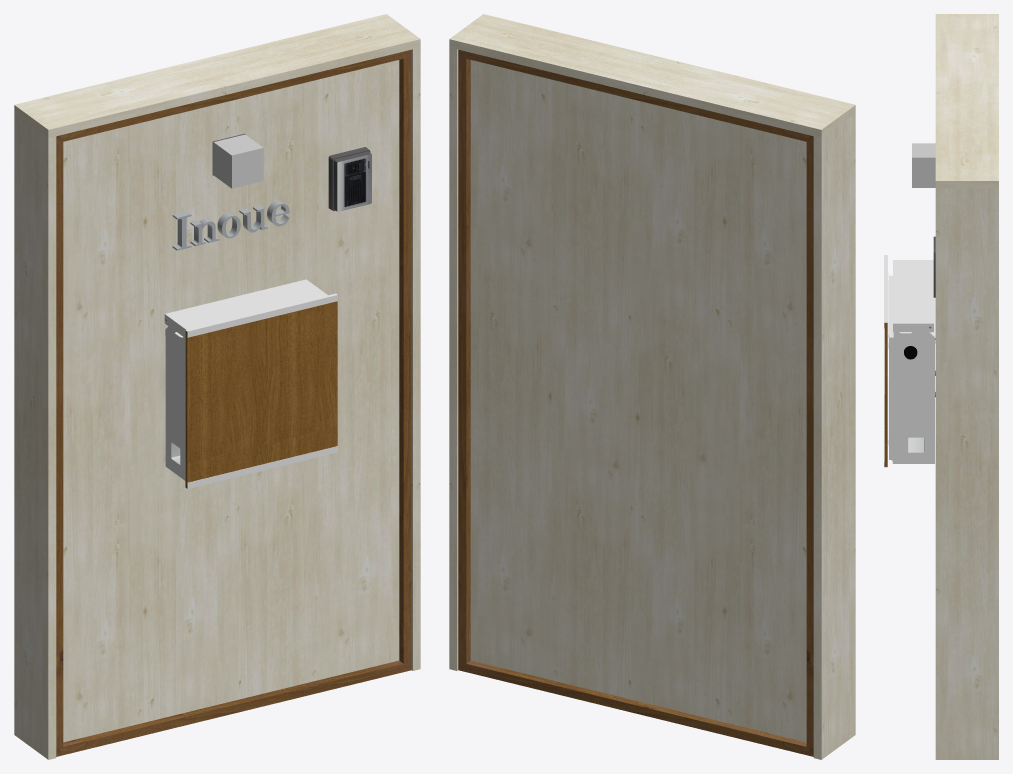
The model's file is eabmonchustyles1_whitepine.fbx.
The picture shows the model from 3 angles, left to right: view 1: azimuth 30°, elevation 25°; view 2: azimuth 150°, elevation 25°; view 3: azimuth 270°, elevation 25°; orthographic projection. The views are drawn at different scales.
Parts seen in each view (by area): view 1: eabmonchustyles1-whitepine; view 2: eabmonchustyles1-whitepine; view 3: eabmonchustyles1-whitepine.
Part boxes in pixels (bbox=[...]): eabmonchustyles1-whitepine: bbox=[14, 14, 420, 759]; eabmonchustyles1-whitepine: bbox=[449, 14, 855, 759]; eabmonchustyles1-whitepine: bbox=[884, 14, 998, 759].
Bounding box in the file's own units: 94 × 152 × 27.3.
13 materials, 4 textured.
